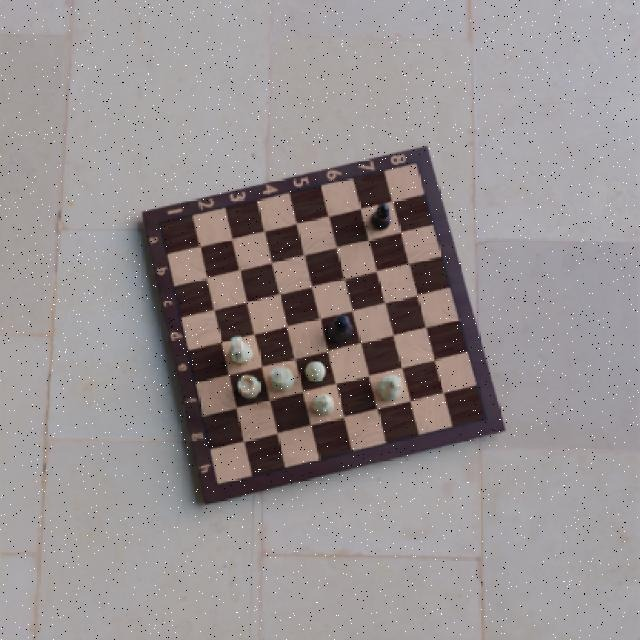black-bishop: (370, 201, 392, 231)
black-king: (329, 313, 354, 344)
black-knight: (230, 334, 254, 367)
white-bishop: (312, 393, 336, 417)
white-pawn: (304, 360, 328, 386)
white-queen: (377, 372, 404, 403), (269, 365, 294, 391)
white-rook: (235, 373, 265, 398)
